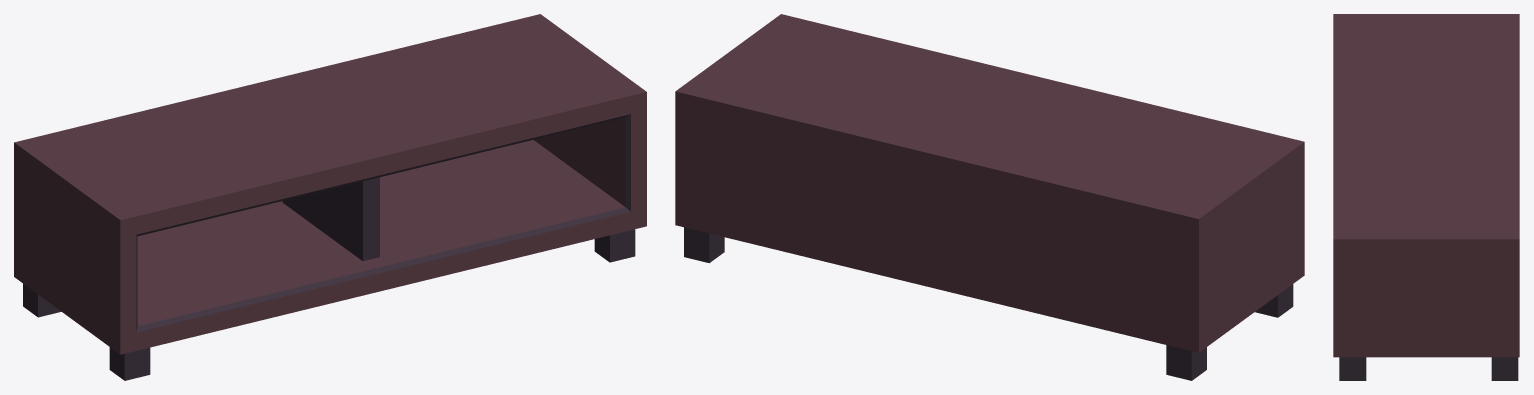
The model's file is Prop_Table_19.fbx.
3 views of the same model, side by side, from view 1: azimuth 30°, elevation 25°; view 2: azimuth 150°, elevation 25°; view 3: azimuth 270°, elevation 25° (orthographic). The views are drawn at different scales.
Parts seen in each view (by area): view 1: Prop_Table_19; view 2: Prop_Table_19; view 3: Prop_Table_19.
Part boxes in pixels (bbox=[...]): Prop_Table_19: bbox=[14, 14, 646, 380]; Prop_Table_19: bbox=[675, 14, 1304, 380]; Prop_Table_19: bbox=[1333, 14, 1519, 380].
Size of the model in its own units: 200 by 60 by 70.
